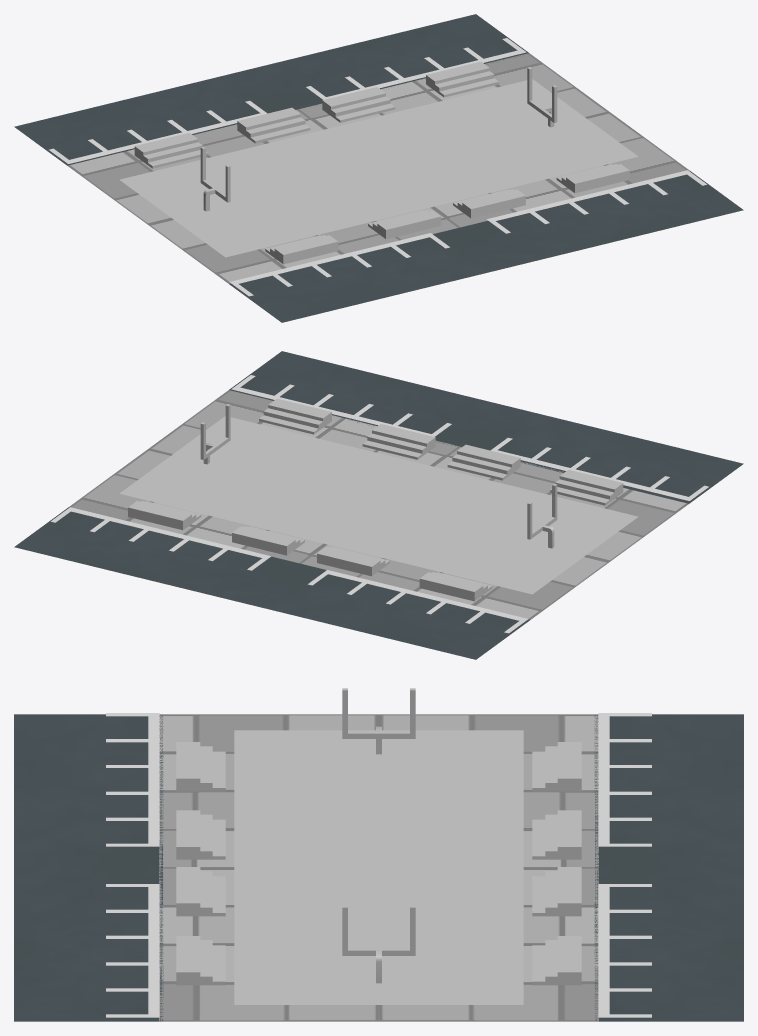
Rendered from tile_poi_football_field_6x6_b.fbx.
3 renders of one model, top to bottom at view 1: azimuth 30°, elevation 25°; view 2: azimuth 150°, elevation 25°; view 3: azimuth 270°, elevation 25°, orthographic. The views are drawn at different scales.
Visible parts, largest first — view 1: tile_poi_football_field_6x6_b; view 2: tile_poi_football_field_6x6_b; view 3: tile_poi_football_field_6x6_b.
Boxes of the visible parts, left/top/right/bottom form: tile_poi_football_field_6x6_b: left=14, top=14, right=743, bottom=322; tile_poi_football_field_6x6_b: left=14, top=351, right=743, bottom=659; tile_poi_football_field_6x6_b: left=14, top=688, right=743, bottom=1021.
Bounding box in the file's own units: 9600 × 1083 × 9644.
